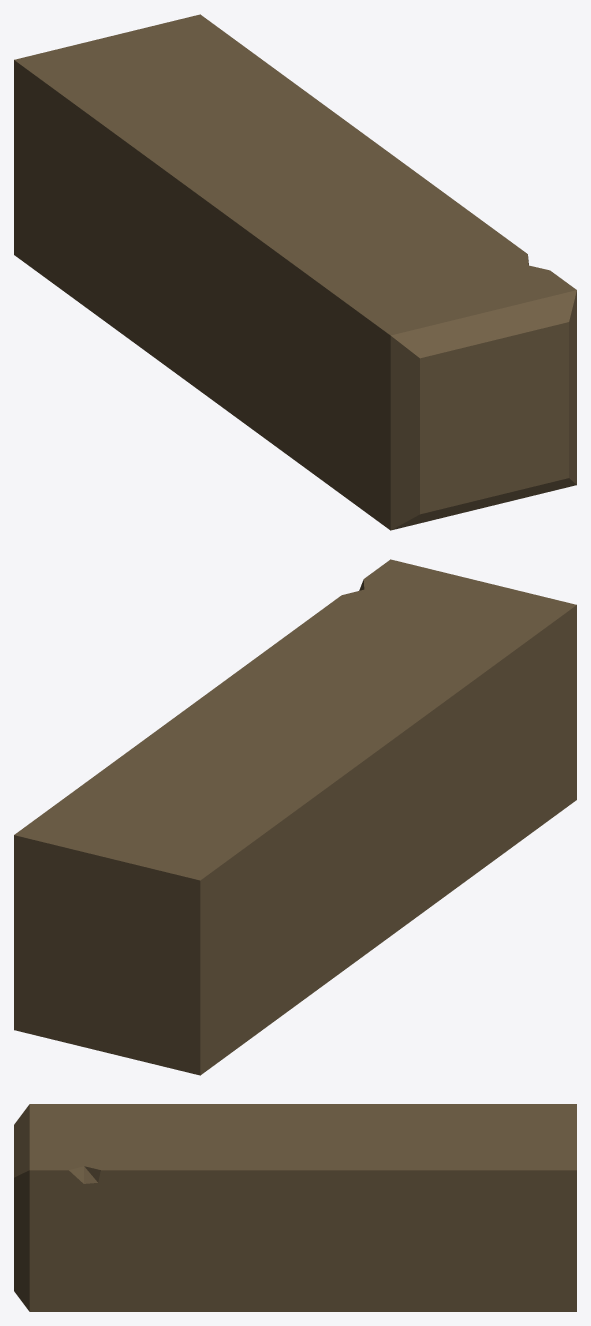
Rendered from greek_decorative_post.fbx.
3 renders of one model, top to bottom at view 1: azimuth 30°, elevation 25°; view 2: azimuth 150°, elevation 25°; view 3: azimuth 270°, elevation 25°, orthographic. The views are drawn at different scales.
Parts seen in each view (by area): view 1: Cube.061; view 2: Cube.061; view 3: Cube.061.
Boxes of the visible parts, <box> form: Cube.061: <box>14,14,576,530</box>; Cube.061: <box>14,559,576,1075</box>; Cube.061: <box>14,1104,576,1311</box>.
Bounding box in the file's own units: 20 × 20 × 72.
